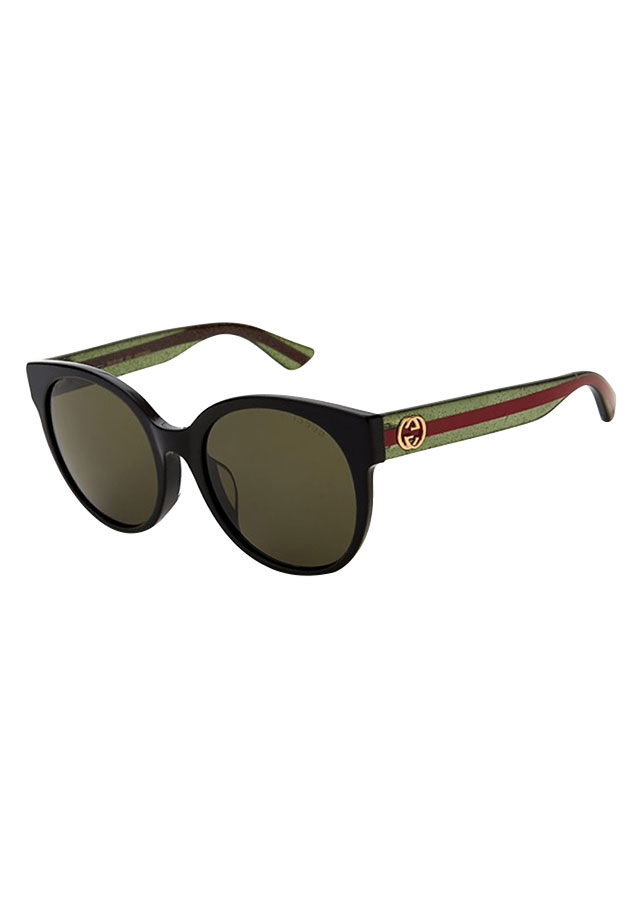Gucci: (391, 411, 437, 454)
